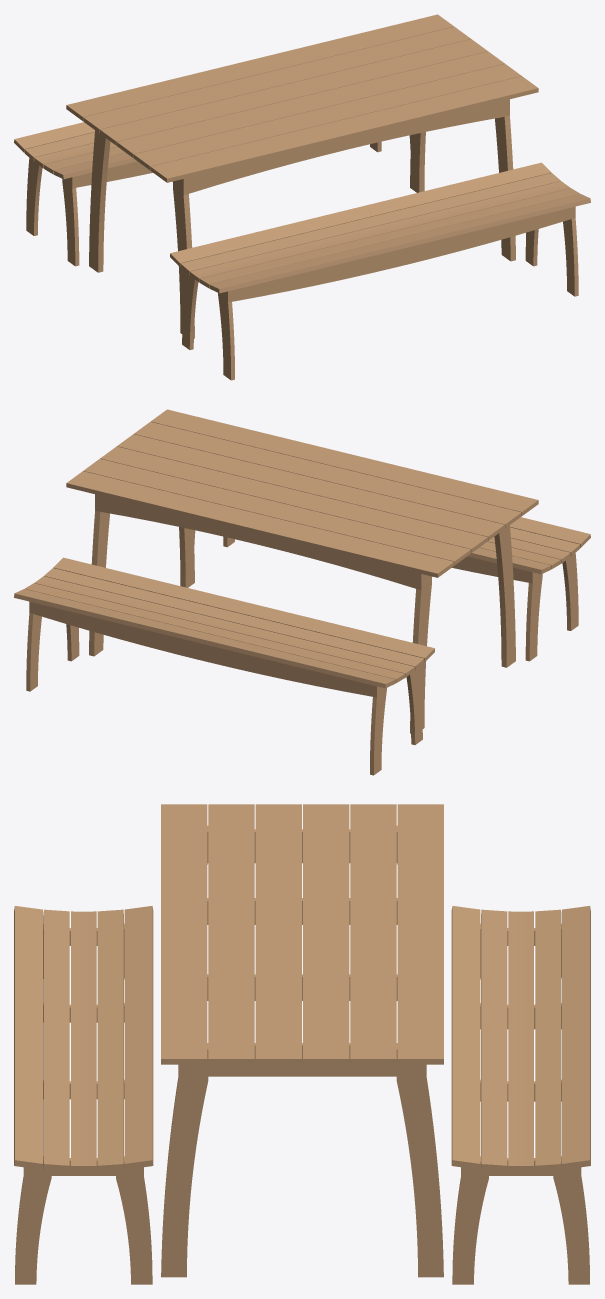
3 renders of one model, top to bottom at view 1: azimuth 30°, elevation 25°; view 2: azimuth 150°, elevation 25°; view 3: azimuth 270°, elevation 25°, orthographic. The views are drawn at different scales.
Visible parts, largest first — view 1: mesh1_mesh1-geometry, mesh13_mesh13-geometry, mesh25_mesh25-geometry, mesh17_mesh17-geometry, mesh27_mesh27-geometry, mesh3_mesh3-geometry, mesh21_mesh21-geometry, mesh19_mesh19-geometry, mesh37_mesh37-geometry, mesh15_mesh15-geometry, mesh23_mesh23-geometry, mesh39_mesh39-geometry (+1 smaller); view 2: mesh1_mesh1-geometry, mesh29_mesh29-geometry, mesh17_mesh17-geometry, mesh25_mesh25-geometry, mesh21_mesh21-geometry, mesh5_mesh5-geometry, mesh27_mesh27-geometry, mesh33_mesh33-geometry, mesh39_mesh39-geometry, mesh23_mesh23-geometry, mesh15_mesh15-geometry, mesh37_mesh37-geometry (+1 smaller); view 3: mesh1_mesh1-geometry, mesh17_mesh17-geometry, mesh25_mesh25-geometry, mesh21_mesh21-geometry, mesh27_mesh27-geometry, mesh19_mesh19-geometry, mesh33_mesh33-geometry, mesh37_mesh37-geometry, mesh39_mesh39-geometry, mesh15_mesh15-geometry, mesh23_mesh23-geometry, mesh7_mesh7-geometry (+1 smaller).
Boxes of the visible parts, bbox=[...] form: mesh1_mesh1-geometry: bbox=[66, 14, 538, 182]; mesh13_mesh13-geometry: bbox=[76, 161, 571, 301]; mesh25_mesh25-geometry: bbox=[14, 122, 551, 266]; mesh17_mesh17-geometry: bbox=[53, 152, 590, 293]; mesh27_mesh27-geometry: bbox=[24, 132, 560, 275]; mesh3_mesh3-geometry: bbox=[189, 100, 504, 193]; mesh21_mesh21-geometry: bbox=[44, 146, 579, 288]; mesh19_mesh19-geometry: bbox=[190, 181, 570, 282]; mesh37_mesh37-geometry: bbox=[89, 99, 515, 272]; mesh15_mesh15-geometry: bbox=[26, 135, 578, 349]; mesh23_mesh23-geometry: bbox=[62, 141, 538, 380]; mesh39_mesh39-geometry: bbox=[173, 132, 425, 338]; mesh1_mesh1-geometry: bbox=[66, 409, 538, 577]; mesh29_mesh29-geometry: bbox=[33, 556, 528, 696]; mesh17_mesh17-geometry: bbox=[53, 517, 590, 661]; mesh25_mesh25-geometry: bbox=[14, 547, 551, 688]; mesh21_mesh21-geometry: bbox=[44, 527, 580, 670]; mesh5_mesh5-geometry: bbox=[100, 495, 415, 588]; mesh27_mesh27-geometry: bbox=[25, 541, 560, 683]; mesh33_mesh33-geometry: bbox=[34, 576, 414, 677]; mesh39_mesh39-geometry: bbox=[89, 494, 515, 667]; mesh23_mesh23-geometry: bbox=[26, 530, 578, 744]; mesh15_mesh15-geometry: bbox=[66, 536, 542, 775]; mesh37_mesh37-geometry: bbox=[179, 527, 431, 733]; mesh1_mesh1-geometry: bbox=[161, 804, 443, 1064]; mesh17_mesh17-geometry: bbox=[14, 906, 480, 1169]; mesh25_mesh25-geometry: bbox=[124, 906, 590, 1169]; mesh21_mesh21-geometry: bbox=[43, 909, 507, 1171]; mesh27_mesh27-geometry: bbox=[97, 909, 561, 1171]; mesh19_mesh19-geometry: bbox=[71, 911, 96, 1171]; mesh33_mesh33-geometry: bbox=[508, 911, 533, 1171]; mesh37_mesh37-geometry: bbox=[161, 825, 397, 1277]; mesh39_mesh39-geometry: bbox=[207, 825, 443, 1277]; mesh15_mesh15-geometry: bbox=[15, 923, 561, 1284]; mesh23_mesh23-geometry: bbox=[43, 923, 589, 1284]; mesh7_mesh7-geometry: bbox=[207, 829, 397, 1076].
Size of the model in its own units: 0.6897 by 0.2956 by 0.6611.
